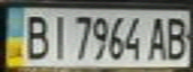4: (124, 14, 145, 61)
6: (109, 12, 127, 61)
7: (69, 11, 93, 61)
9: (90, 12, 112, 61)
A: (145, 14, 172, 61)
B: (18, 11, 51, 61), (163, 12, 193, 61)
I: (45, 11, 69, 61)
